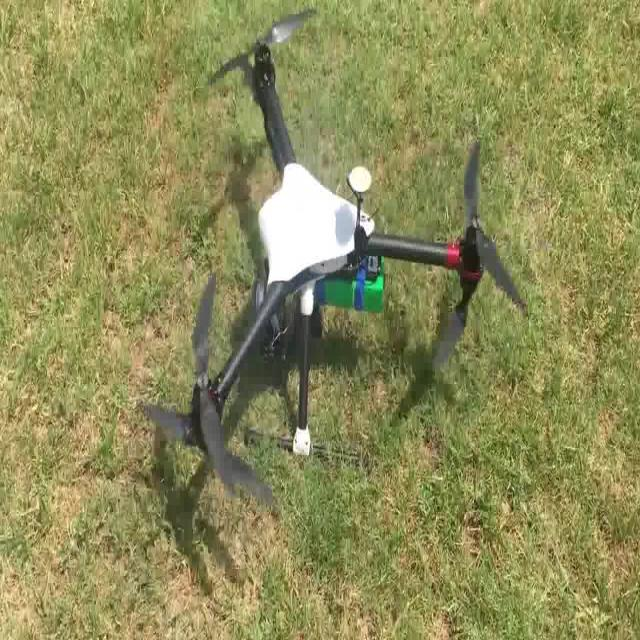drone: (138, 7, 534, 510)
